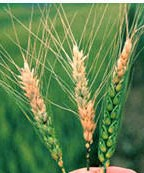Wheat scab: (97, 31, 139, 164), (16, 62, 67, 167)
